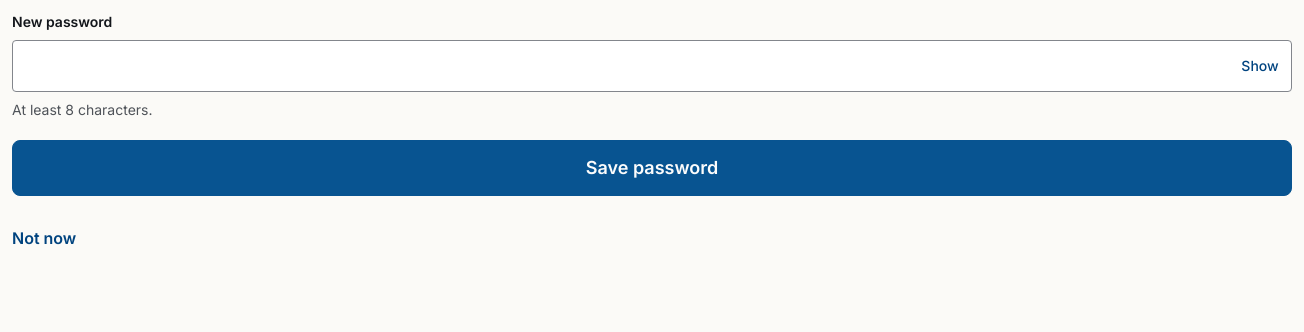
Test: ChoosePasswordForm › ties a refusal to the field and announces it
Type "correct horse" into the password field labelled "New password" at (652, 66), box [12, 40, 1292, 92]
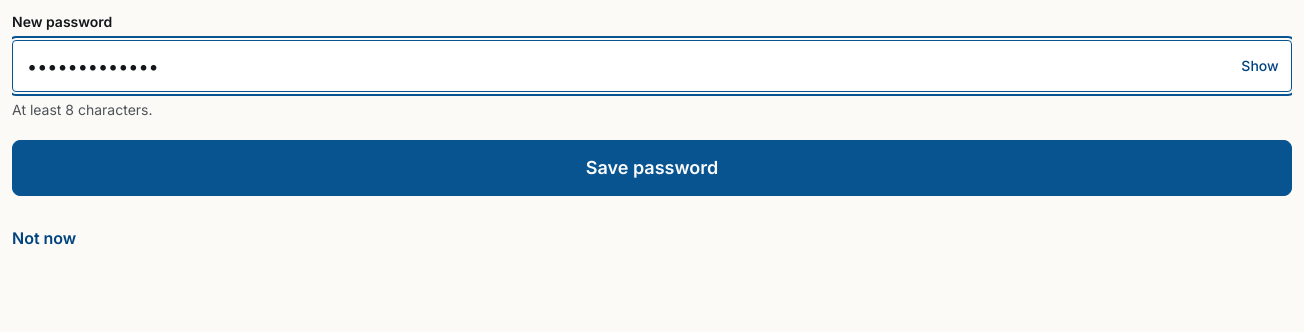
Click the button "Save password" at (652, 168), box [12, 140, 1292, 196]
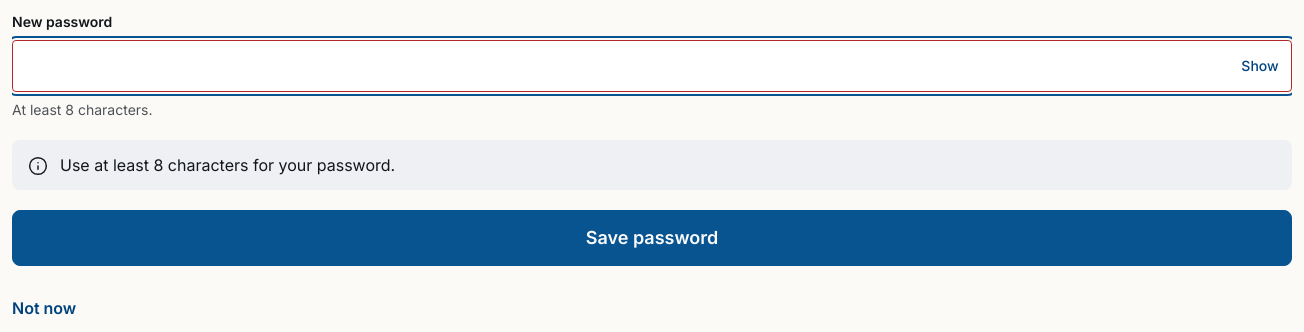
Check: the message reads "Use at least 8 characters for your password.", box [60, 155, 395, 175]
